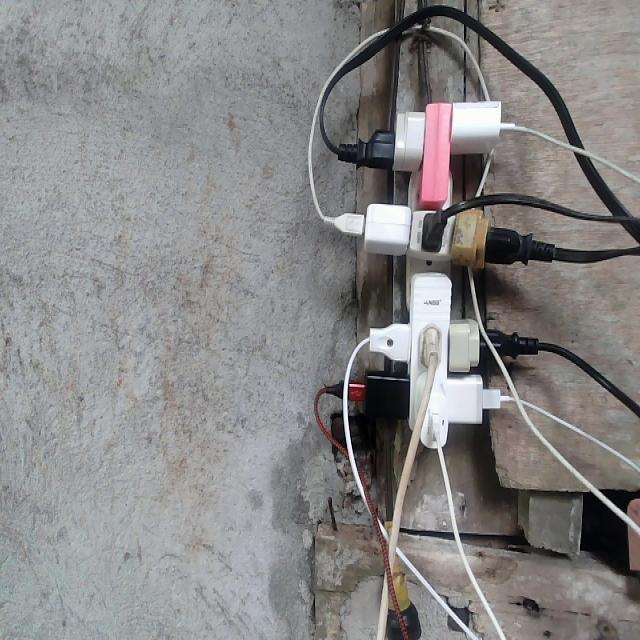-: (322, 97, 550, 451)
